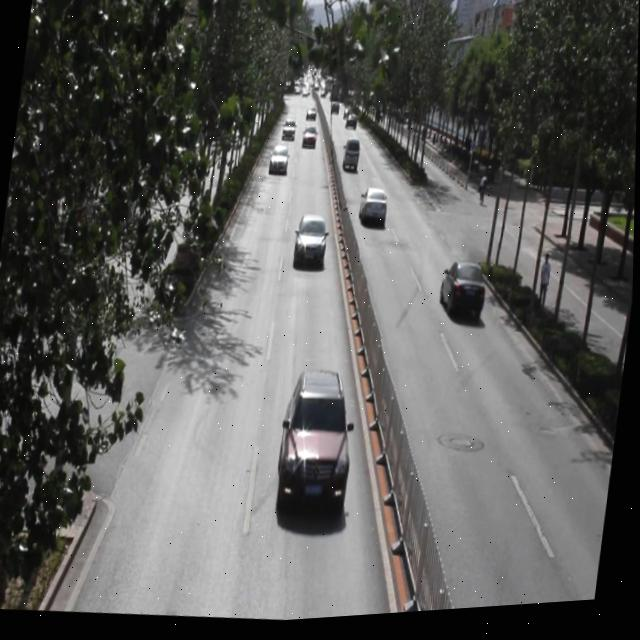car: (275, 367, 362, 520), (438, 262, 488, 327), (293, 214, 331, 274), (357, 189, 389, 233), (268, 146, 292, 180), (301, 127, 318, 152), (282, 119, 297, 145), (345, 114, 359, 135), (304, 107, 318, 128)
truck: (341, 140, 362, 175)
